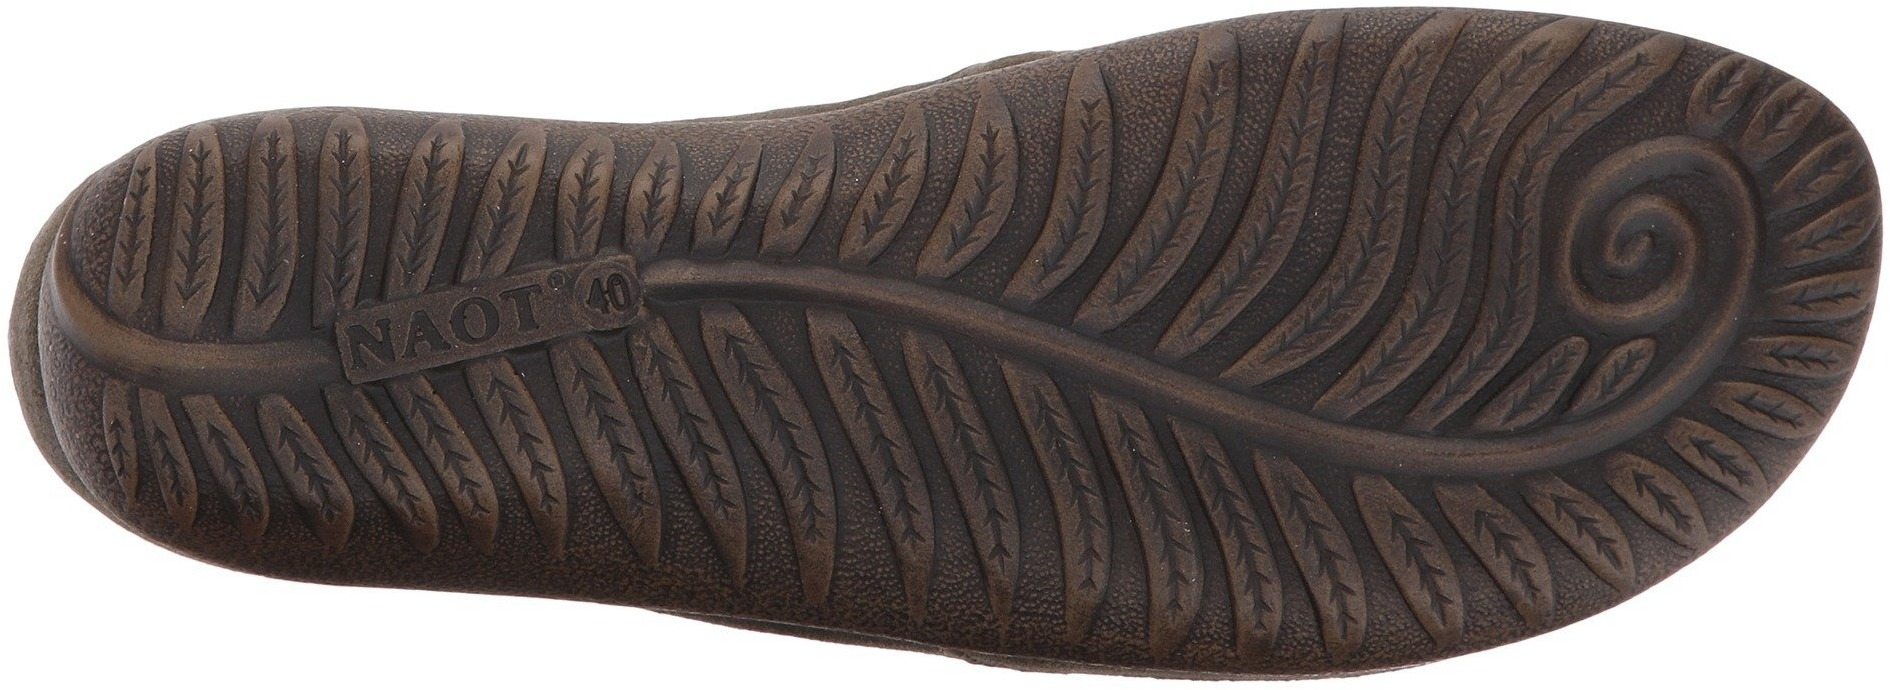circle: (446, 291, 499, 358)
quad: (753, 315, 1053, 593), (154, 188, 312, 329)
ribbon: (1305, 370, 1467, 516), (685, 209, 838, 343), (199, 292, 344, 423)
text: (444, 267, 556, 372), (574, 264, 642, 329)
